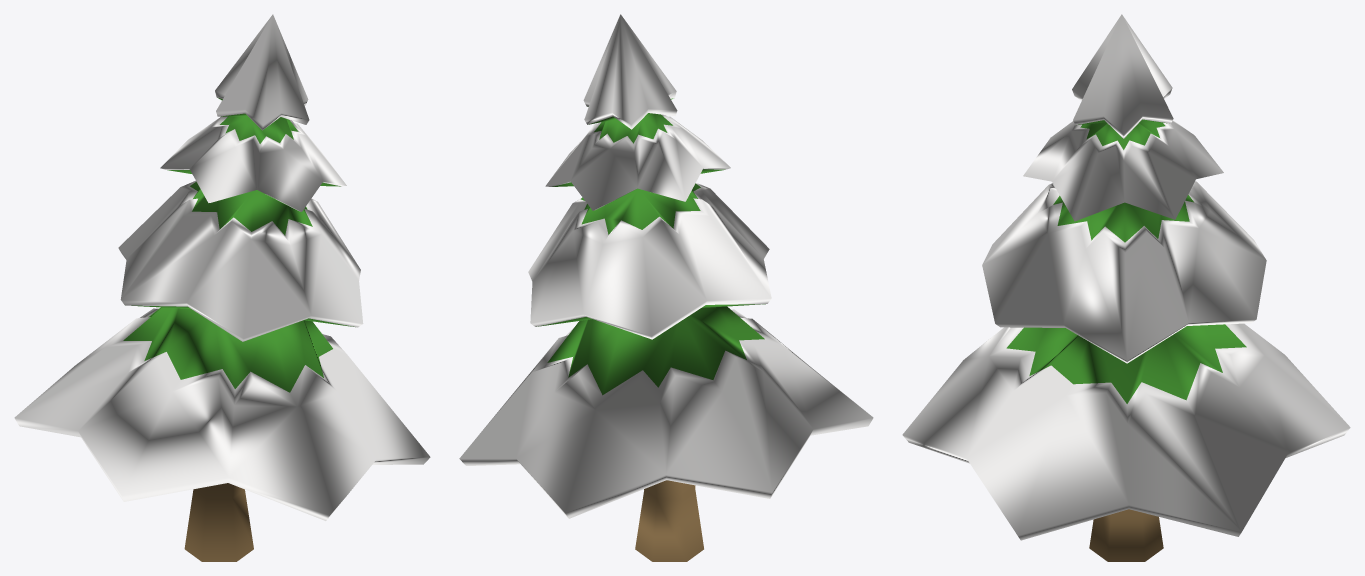
File: shakingtree.obj
The picture shows the model from 3 angles, left to right: view 1: azimuth 30°, elevation 25°; view 2: azimuth 150°, elevation 25°; view 3: azimuth 270°, elevation 25°; orthographic projection. The views are drawn at different scales.
Parts seen in each view (by area): view 1: Snowy_Tree; view 2: Snowy_Tree; view 3: Snowy_Tree.
Part boxes in pixels (box(x1,y1,x2,y2)): Snowy_Tree: box(14, 14, 430, 561); Snowy_Tree: box(459, 14, 873, 561); Snowy_Tree: box(902, 14, 1350, 561).
Bounding box in the file's own units: 184 × 294 × 213.
3 materials, 3 textured.
